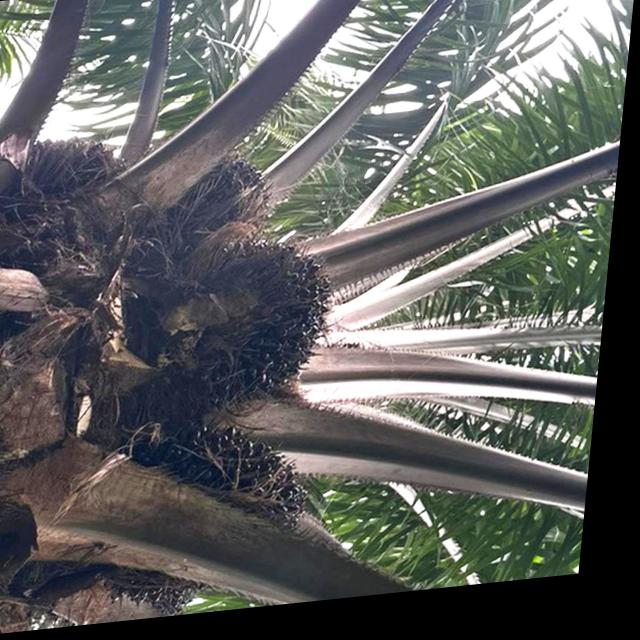unripe: (189, 227, 351, 429)
